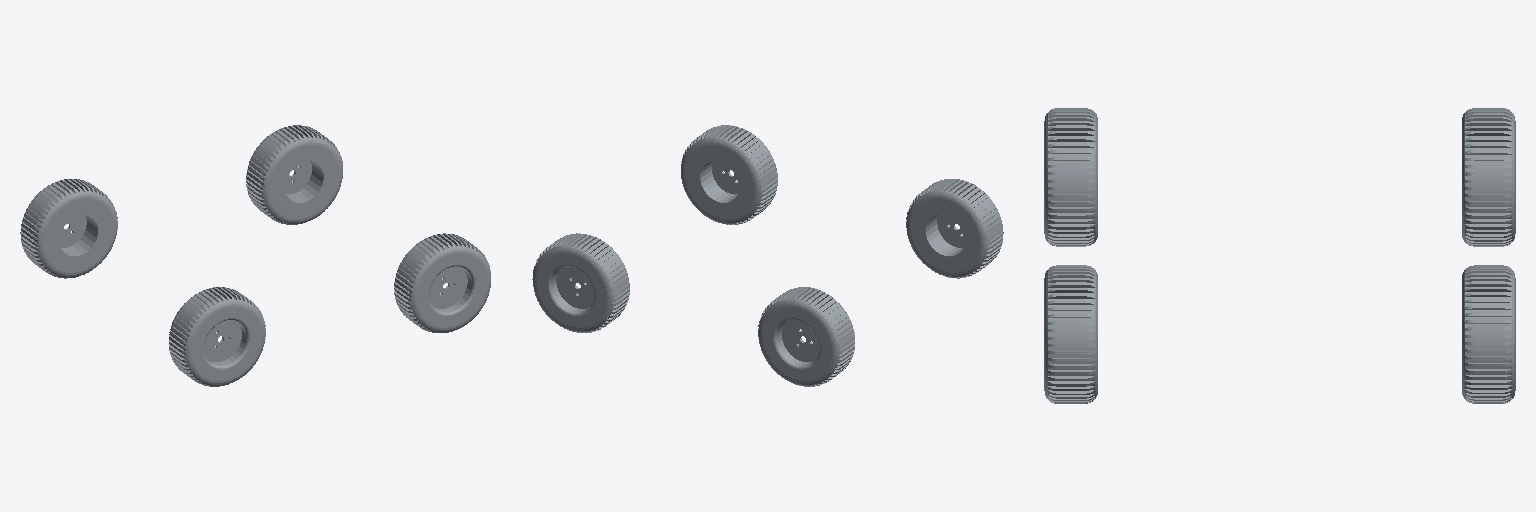
The robot description file, URDF, robot "finallecar":
<?xml version="1.0" encoding="utf-8"?>
<!-- This URDF was automatically created by SolidWorks to URDF Exporter! Originally created by [author] ([email redacted]) 
     Commit Version: 1.6.0-4-g7f85cfe  Build Version: 1.6.7995.38578
     For more information, please see http://wiki.ros.org/sw_urdf_exporter -->
<robot
  name="finallecar">
  <link
    name="base_link">
    <inertial>
      <origin
        xyz="-0.20864 -0.547261 0.190368"
        rpy="0 0 0" />
      <mass
        value="6.790753001" />
      <inertia
        ixx="2.80046448"
        ixy="-0.44489161"
        ixz="0.1929147"
        iyy="1.91257935"
        iyz="0.11011542"
        izz="3.91368936" />
    </inertial>
    <visual>
      <origin
        xyz="0 0 0"
        rpy="0 0 0" />
      <geometry>
        <mesh
          filename="package://finallecar/meshes/base_link.STL" />
      </geometry>
      <material
        name="">
        <color
          rgba="0.792156862745098 0.819607843137255 0.933333333333333 1" />
      </material>
    </visual>
    <collision>
      <origin
        xyz="0 0 0"
        rpy="0 0 0" />
      <geometry>
        <mesh
          filename="package://finallecar/meshes/base_link.STL" />
      </geometry>
    </collision>
  </link>
  <link
    name="wheel1">
    <inertial>
      <origin
        xyz="-3.5962E-12 -0.01 0.03249"
        rpy="0 0 0" />
      <mass
        value="7.6958" />
      <inertia
        ixx="0.068663"
        ixy="3.9288E-12"
        ixz="2.0747E-12"
        iyy="0.068663"
        iyz="-1.9947E-11"
        izz="0.11782" />
    </inertial>
    <visual>
      <origin
        xyz="0 0 0"
        rpy="0 0 0" />
      <geometry>
        <mesh
          filename="package://finallecar/meshes/wheel1.STL" />
      </geometry>
      <material
        name="">
        <color
          rgba="0.63137 0.65882 0.67843 1" />
      </material>
    </visual>
    <collision>
      <origin
        xyz="0 0 0"
        rpy="0 0 0" />
      <geometry>
        <mesh
          filename="package://finallecar/meshes/wheel1.STL" />
      </geometry>
    </collision>
  </link>
  <joint
    name="wheel1joint"
    type="continuous">
    <origin
      xyz="-0.32331 0 -0.41381"
      rpy="1.5708 0.36709 0" />
    <parent
      link="base_link" />
    <child
      link="wheel1" />
    <axis
      xyz="0 0 1" />
  </joint>
  <link
    name="wheel2">
    <inertial>
      <origin
        xyz="-3.62709862145039E-12 -0.0099999997601759 0.0324902111681642"
        rpy="0 0 0" />
      <mass
        value="7.6957661727786" />
      <inertia
        ixx="0.0686634565010286"
        ixy="3.95821569965094E-12"
        ixz="2.06343394084791E-12"
        iyy="0.0686634562243053"
        iyz="-2.02983413731765E-11"
        izz="0.117819944312768" />
    </inertial>
    <visual>
      <origin
        xyz="0 0 0"
        rpy="0 0 0" />
      <geometry>
        <mesh
          filename="package://finallecar/meshes/wheel2.STL" />
      </geometry>
      <material
        name="">
        <color
          rgba="0.631372549019608 0.658823529411765 0.67843137254902 1" />
      </material>
    </visual>
    <collision>
      <origin
        xyz="0 0 0"
        rpy="0 0 0" />
      <geometry>
        <mesh
          filename="package://finallecar/meshes/wheel2.STL" />
      </geometry>
    </collision>
  </link>
  <joint
    name="wheel2joint"
    type="continuous">
    <origin
      xyz="0.55648 0 -0.42337"
      rpy="1.5708 0.99677 0" />
    <parent
      link="base_link" />
    <child
      link="wheel2" />
    <axis
      xyz="0 0 1" />
  </joint>
  <link
    name="wheel3">
    <inertial>
      <origin
        xyz="-3.6269E-12 -0.01 -0.06351"
        rpy="0 0 0" />
      <mass
        value="7.6958" />
      <inertia
        ixx="0.068663"
        ixy="3.958E-12"
        ixz="2.0846E-12"
        iyy="0.068663"
        iyz="-2.0296E-11"
        izz="0.11782" />
    </inertial>
    <visual>
      <origin
        xyz="0 0 0"
        rpy="0 0 0" />
      <geometry>
        <mesh
          filename="package://finallecar/meshes/wheel3.STL" />
      </geometry>
      <material
        name="">
        <color
          rgba="0.63137 0.65882 0.67843 1" />
      </material>
    </visual>
    <collision>
      <origin
        xyz="0 0 0"
        rpy="0 0 0" />
      <geometry>
        <mesh
          filename="package://finallecar/meshes/wheel3.STL" />
      </geometry>
    </collision>
  </link>
  <joint
    name="wheel3joint"
    type="continuous">
    <origin
      xyz="-0.33085 -0.963 -0.41396"
      rpy="1.5708 0.40656 -3.1416" />
    <parent
      link="base_link" />
    <child
      link="wheel3" />
    <axis
      xyz="0 0 1" />
  </joint>
  <link
    name="wheel4">
    <inertial>
      <origin
        xyz="-3.6325E-12 -0.01 -0.06351"
        rpy="0 0 0" />
      <mass
        value="7.6958" />
      <inertia
        ixx="0.068663"
        ixy="3.9632E-12"
        ixz="2.083E-12"
        iyy="0.068663"
        iyz="-2.0359E-11"
        izz="0.11782" />
    </inertial>
    <visual>
      <origin
        xyz="0 0 0"
        rpy="0 0 0" />
      <geometry>
        <mesh
          filename="package://finallecar/meshes/wheel4.STL" />
      </geometry>
      <material
        name="">
        <color
          rgba="0.63137 0.65882 0.67843 1" />
      </material>
    </visual>
    <collision>
      <origin
        xyz="0 0 0"
        rpy="0 0 0" />
      <geometry>
        <mesh
          filename="package://finallecar/meshes/wheel4.STL" />
      </geometry>
    </collision>
  </link>
  <joint
    name="wheel4joint"
    type="continuous">
    <origin
      xyz="0.54408 -0.963 -0.41964"
      rpy="1.5708 0.41174 -3.1416" />
    <parent
      link="base_link" />
    <child
      link="wheel4" />
    <axis
      xyz="0 0 1" />
  </joint>
<gazebo>
    <plugin name="diff_drive_controller" filename="libgazebo_ros_diff_drive.so">
      <ros>
        <namespace>/finallecar</namespace>
        <remapping>cmd_vel:=/cmd_vel</remapping>
        <remapping>odom:=/odom</remapping>
      </ros>
      <robotNamespace>/my_robot</robotNamespace>
      <controlFrequency>50.0</controlFrequency>
      <wheelSeparation>10</wheelSeparation>
      <wheelDiameter>2</wheelDiameter>
      <wheelAcceleration>0.0</wheelAcceleration>
      <wheelTorque>10000.0</wheelTorque>
      <commandTopic>/cmd_vel</commandTopic>
      <odometryTopic>/odom</odometryTopic>
      <odometryFrame>odom</odometryFrame>
      <robotBaseFrame>base_link</robotBaseFrame>
      <leftJoint>wheel1joint</leftJoint>
      <leftJoint>wheel2joint</leftJoint>
      <rightJoint>wheel3joint</rightJoint>
      <rightJoint>wheel4joint</rightJoint>
    </plugin>
  </gazebo>
</robot>

--- Facts derived from the render (not from the file) ---
3 views of the same robot in one strip: view 1: azimuth 30°, elevation 25°; view 2: azimuth 150°, elevation 25°; view 3: azimuth 270°, elevation 25° (orthographic).
Model finallecar with 5 links and 4 joints (4 continuous), rooted at base_link, posed every joint at zero.
Links seen in each view (by area): view 1: wheel2, wheel3, wheel4, wheel1; view 2: wheel1, wheel4, wheel2, wheel3; view 3: wheel1, wheel3, wheel4, wheel2.
Boxes of the visible links, x1,y1,x2,y2 form: wheel2: (246,125,342,224); wheel3: (169,287,265,386); wheel4: (394,233,490,332); wheel1: (20,179,117,278); wheel1: (758,287,854,386); wheel4: (681,125,777,224); wheel2: (532,233,629,332); wheel3: (906,179,1003,278); wheel1: (1462,108,1515,246); wheel3: (1044,108,1097,246); wheel4: (1044,265,1097,403); wheel2: (1462,265,1515,403).
Size in the robot's own frame: 1.21 by 1.12 by 0.3357 metres.
4 mesh visuals loaded from 5 distinct referenced files (4 binary STL); not drawn: 1 (reference not matched to a file when rendering).